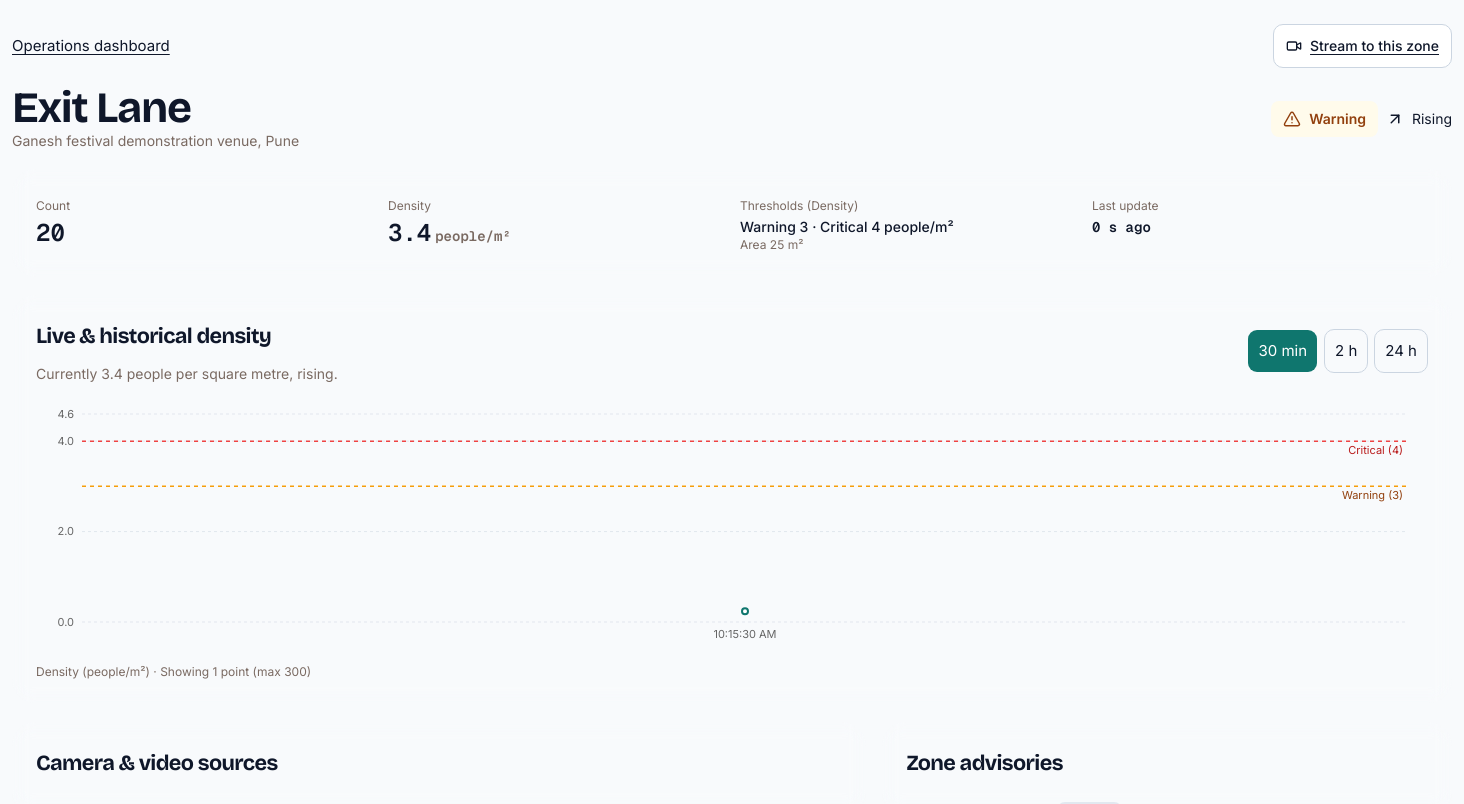
Scenario: ZoneChart & PoliceZoneDetail (F4b) › shows skeleton while history loads, switches bucket_s across 30 min (10), 2 h (60), and 24 h (300), and retries on error
Later steps or results of the test are not shown.
Expected: the text "Currently 3.4 people per square metre, rising." is shown, [36,364,338,384]
Expected: the text "Warning" is shown, [1309,109,1366,129]
Step 1. Click the button "2 h" → (1346, 351), box [1324,329,1368,373]
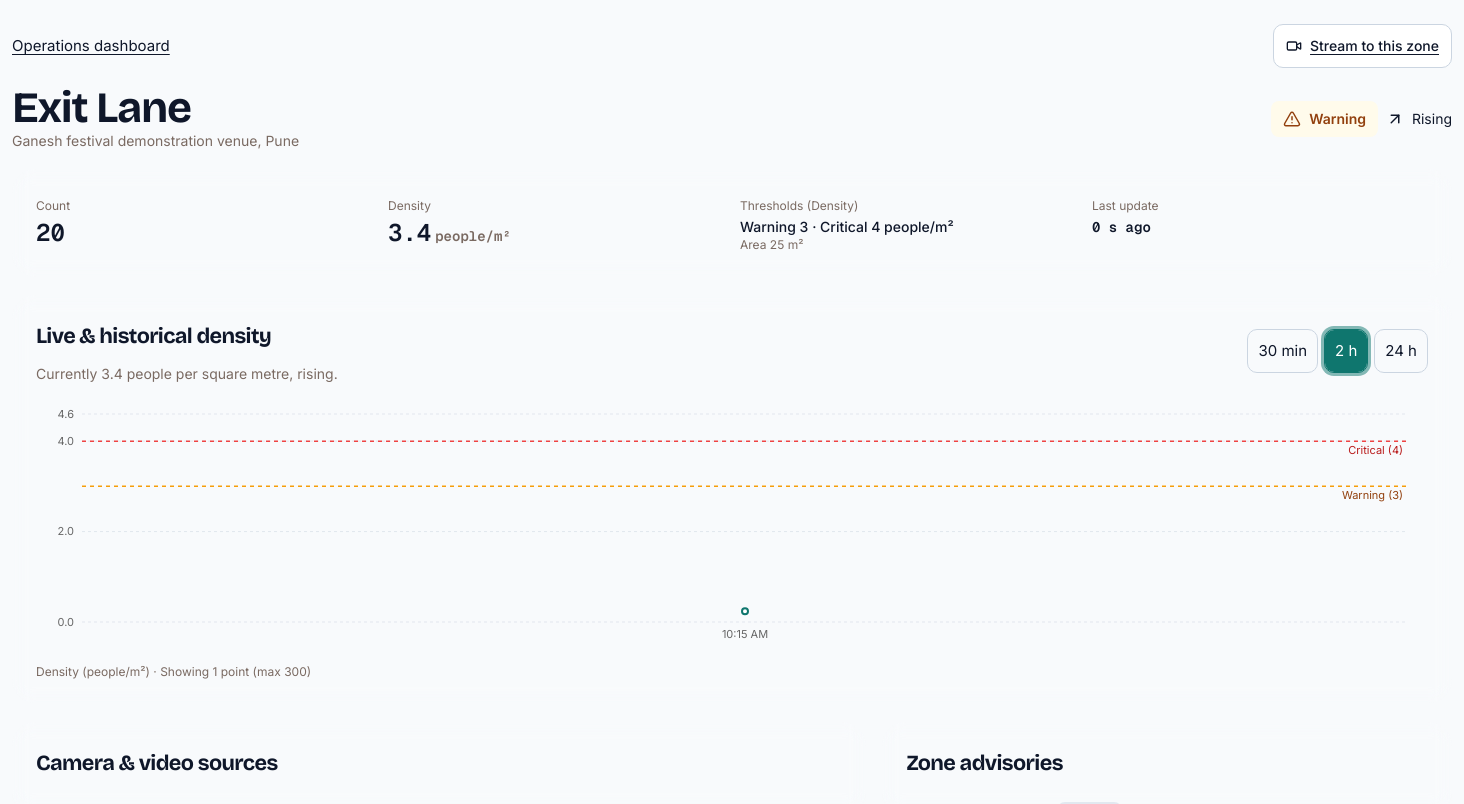
Step 2. Click the button "24 h" → (1401, 351), box [1374,329,1428,373]
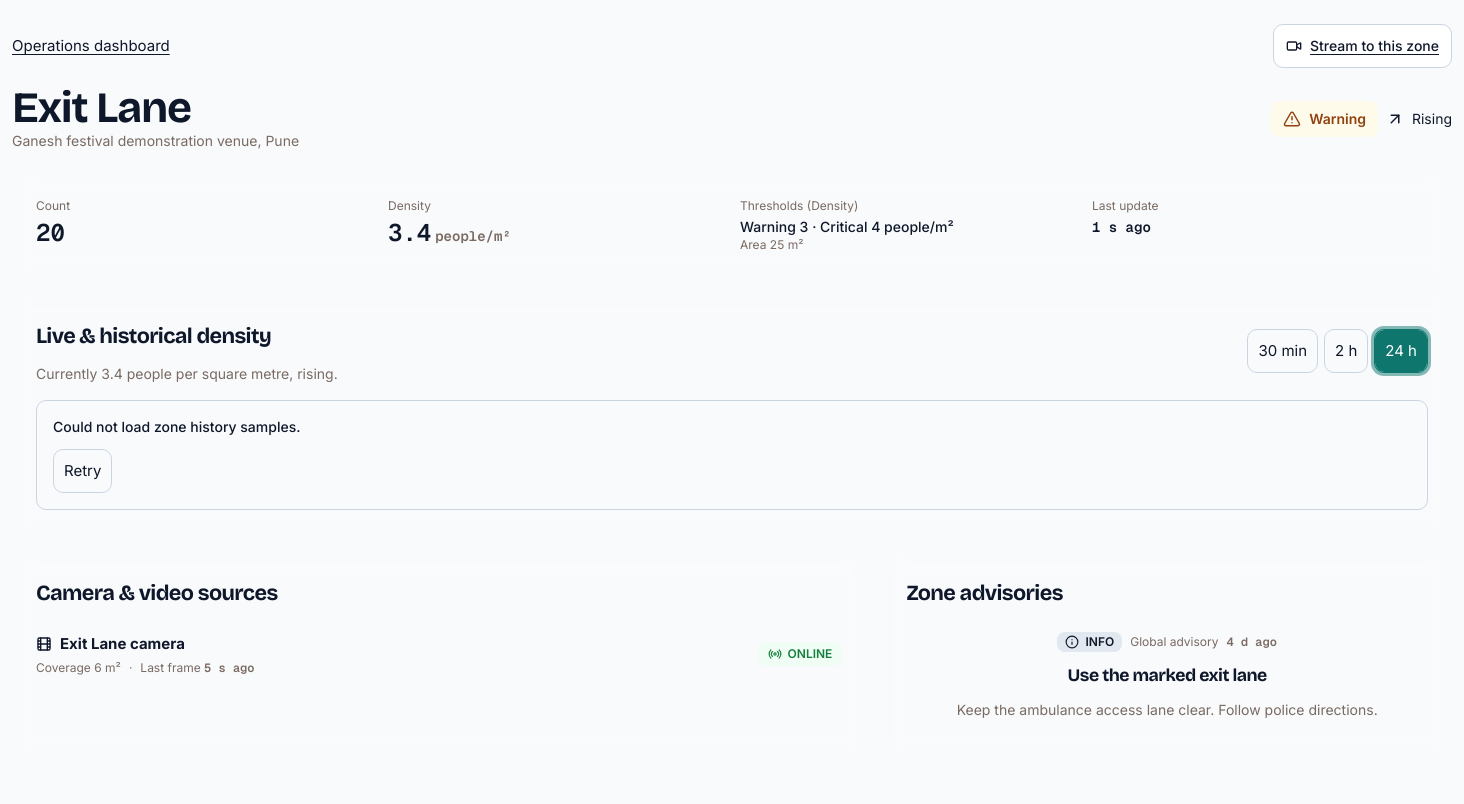
Expected: the text "Could not load zone history samples." is shown, [53,418,300,434]
Step 3. Click the button "Retry" → (83, 470), box [53,448,112,492]
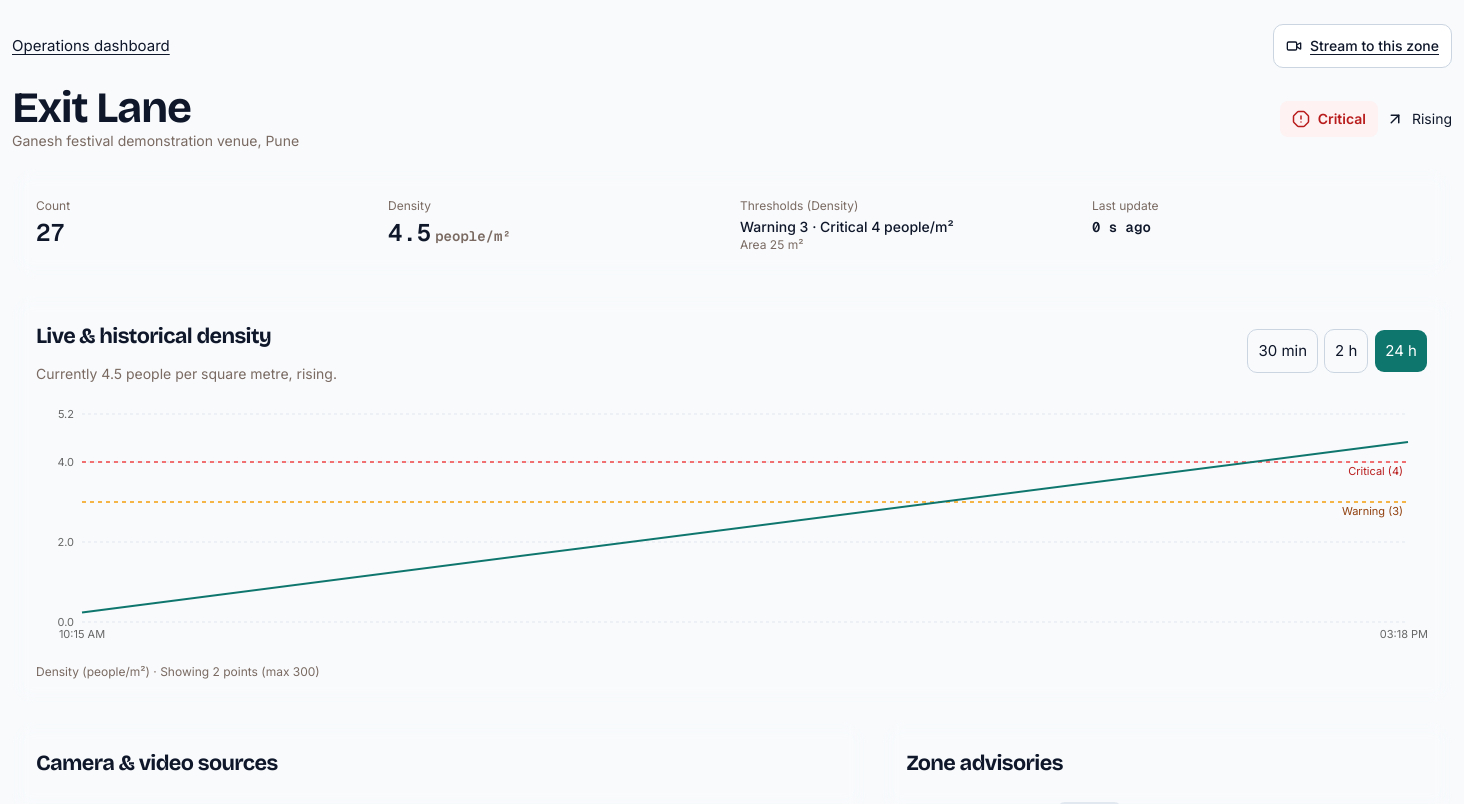
Expected: the text "Currently 4.5 people per square metre, rising." is shown, [36,364,337,384]
